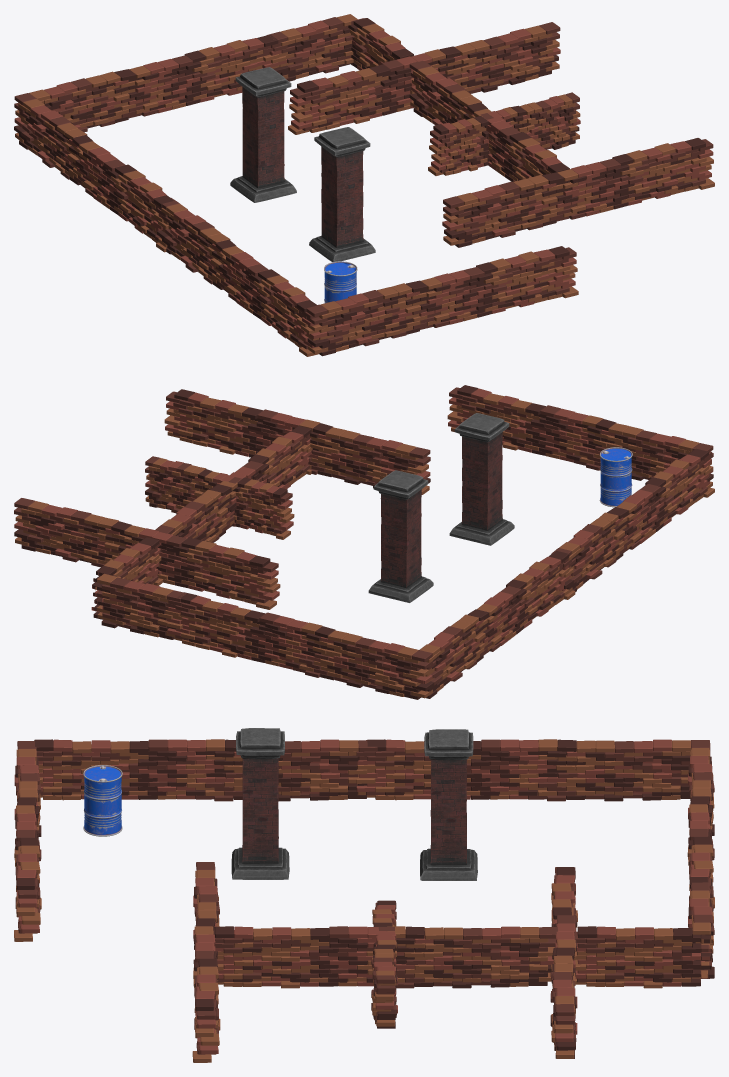
Rendered from brickwall.dae.
3 renders of one model, top to bottom at view 1: azimuth 30°, elevation 25°; view 2: azimuth 150°, elevation 25°; view 3: azimuth 270°, elevation 25°, orthographic. The views are drawn at different scales.
Parts seen in each view (by area): view 1: Cube, Object_2, Object_2.001, Cube_M_Bricks_Var_2_0.009, Cube_M_Bricks_Var_2_0.008, Cube_M_Bricks_Var_2_0.001, Cube_M_Bricks_Var_2_0.006, Cube_M_Bricks_Var_3_0.009, Cube_M_Bricks_Var_3_0.008, Cube_M_Bricks_Var_4_0.009, Cube_M_Bricks_Var_4_0.008, Cube_M_Bricks_Var_4_0.001 (+26 smaller); view 2: Cube, Object_2, Object_2.001, Cube_M_Bricks_Var_2_0.006, Cube_M_Bricks_Var_2_0.001, Cube_M_Bricks_Var_2_0.009, Cube_M_Bricks_Var_2_0.008, Cube_M_Bricks_Var_3_0.006, Cube_M_Bricks_Var_4_0.006, Cube_M_Bricks_Var_3_0.001, Cube_M_Bricks_Var_2_0.002, Cube_M_Bricks_Var_2_0.003 (+27 smaller); view 3: Cube_M_Bricks_Var_2_0.004, Object_2.001, Object_2, Cube_M_Bricks_Var_2_0.002, Cube_M_Bricks_Var_2_0.003, Cube_M_Bricks_Var_4_0.004, Cube_M_Bricks_Var_3_0.004, Cube_M_Bricks_Var_4_0.002, Cube_M_Bricks_Var_3_0.002, Cube_M_Bricks_Var_3_0.003, Cube_M_Bricks_Var_4_0.003, Cube_M_Bricks_Var_1_0.004 (+26 smaller).
Part boxes in pixels (x1,y1,x2,y2): Cube: (428,92,580,175); Object_2: (230,67,296,202); Object_2.001: (309,127,375,262); Cube_M_Bricks_Var_2_0.009: (443,143,714,245); Cube_M_Bricks_Var_2_0.008: (308,251,578,353); Cube_M_Bricks_Var_2_0.001: (288,25,559,134); Cube_M_Bricks_Var_2_0.006: (15,40,286,135); Cube_M_Bricks_Var_3_0.009: (442,141,713,236); Cube_M_Bricks_Var_3_0.008: (306,249,576,344); Cube_M_Bricks_Var_4_0.009: (444,138,705,247); Cube_M_Bricks_Var_4_0.008: (307,246,569,356); Cube_M_Bricks_Var_4_0.001: (297,38,558,127); Cube: (145,456,294,539); Object_2: (368,470,433,602); Object_2.001: (449,413,514,545); Cube_M_Bricks_Var_2_0.006: (167,600,431,697); Cube_M_Bricks_Var_2_0.001: (15,501,280,609); Cube_M_Bricks_Var_2_0.009: (164,397,429,494); Cube_M_Bricks_Var_2_0.008: (447,393,712,488); Cube_M_Bricks_Var_3_0.006: (167,595,432,686); Cube_M_Bricks_Var_4_0.006: (177,592,432,699); Cube_M_Bricks_Var_3_0.001: (14,504,279,600); Cube_M_Bricks_Var_2_0.002: (412,561,575,698); Cube_M_Bricks_Var_2_0.003: (559,459,714,595); Cube_M_Bricks_Var_2_0.004: (217,926,555,988); Object_2.001: (231,728,289,879); Object_2: (420,729,477,880); Cube_M_Bricks_Var_2_0.002: (356,739,691,800); Cube_M_Bricks_Var_2_0.003: (38,739,376,800); Cube_M_Bricks_Var_4_0.004: (215,926,551,988); Cube_M_Bricks_Var_3_0.004: (215,926,553,986); Cube_M_Bricks_Var_4_0.002: (367,739,690,801); Cube_M_Bricks_Var_3_0.002: (356,739,680,799); Cube_M_Bricks_Var_3_0.003: (38,739,377,799); Cube_M_Bricks_Var_4_0.003: (34,739,366,801); Cube_M_Bricks_Var_1_0.004: (214,926,557,988).
Bounding box in the file's own units: 10.92 × 11.81 × 2.45.
6 materials, 6 textured.
